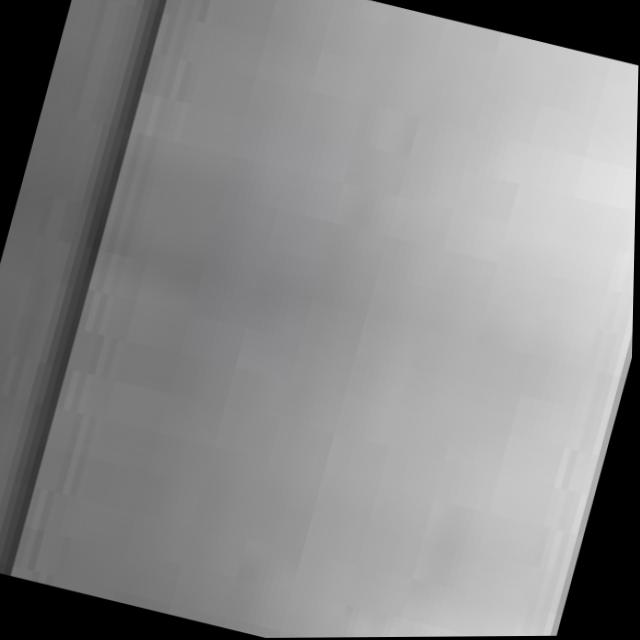metal-plates: (17, 1, 640, 639)
